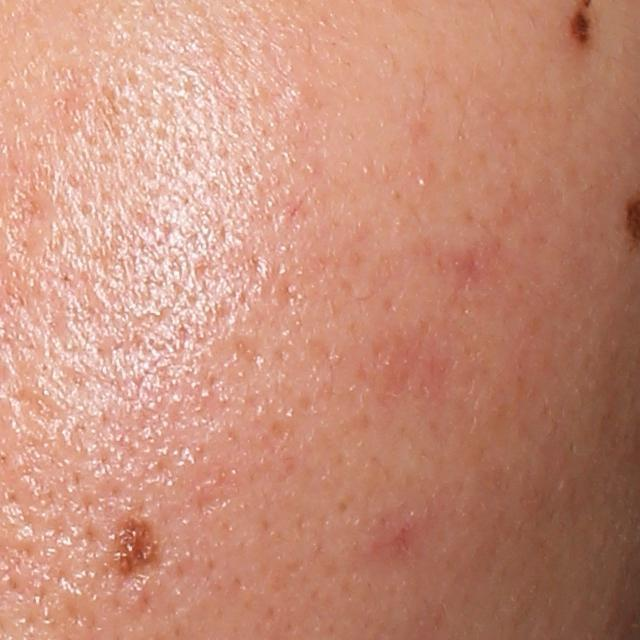atrophic_scar: (9, 176, 60, 264), (230, 338, 266, 371)
comedo: (282, 82, 311, 108)
nevus: (106, 504, 165, 586)
